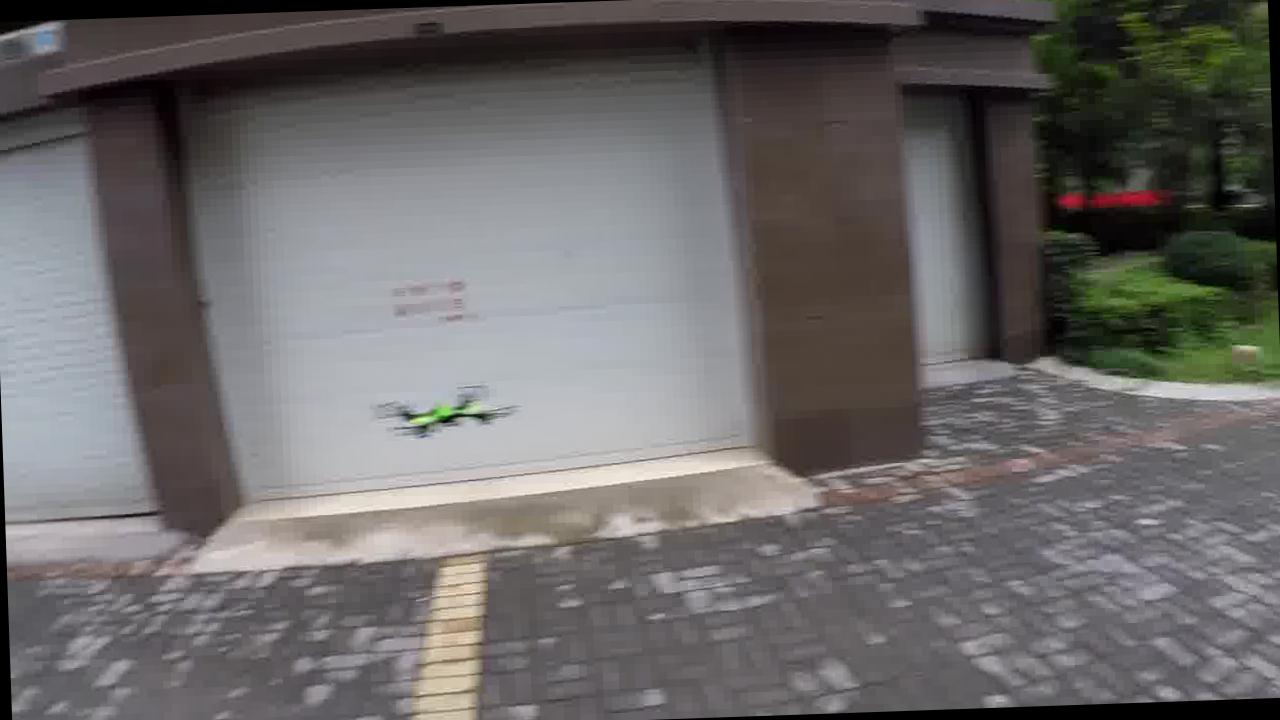drone: (369, 366, 515, 452)
